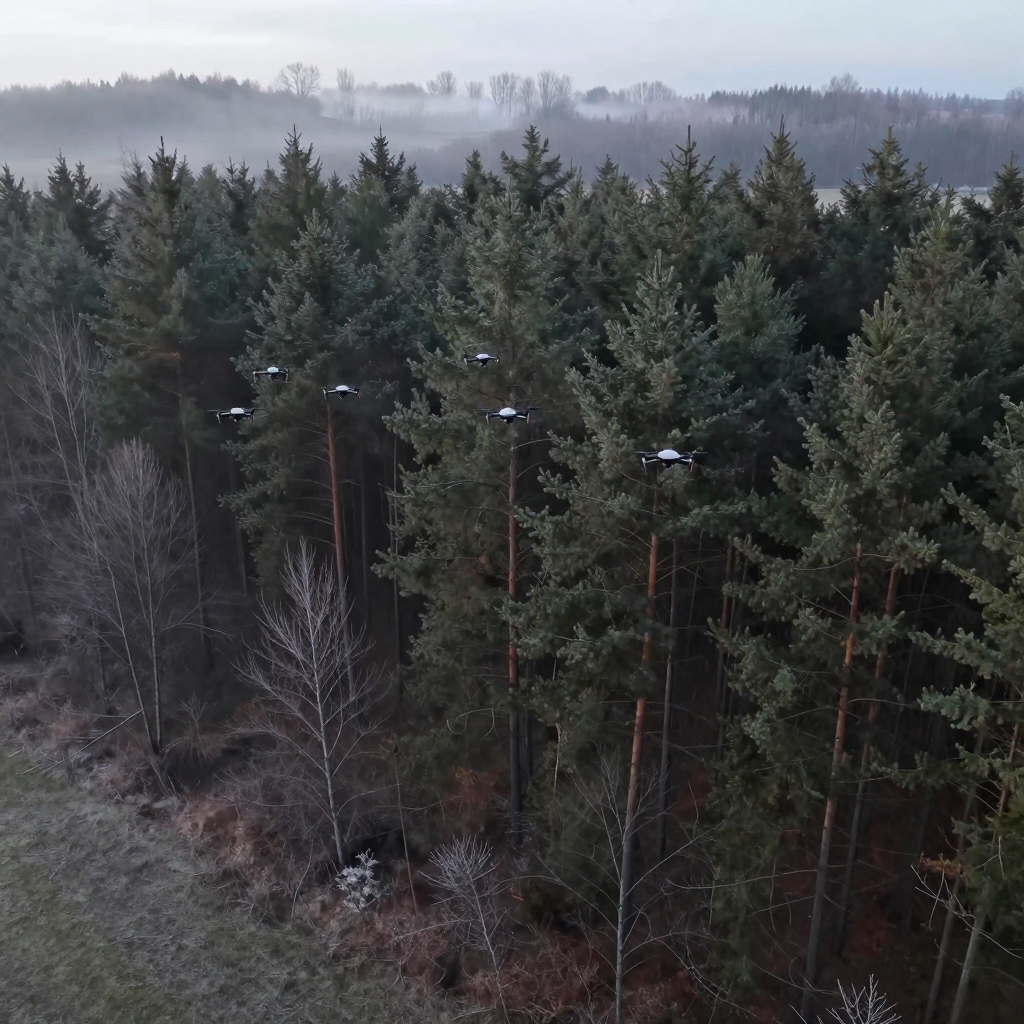drone: (627, 445, 714, 475), (214, 406, 261, 433), (250, 364, 294, 390), (474, 407, 536, 425), (322, 385, 360, 400), (465, 354, 500, 368)
